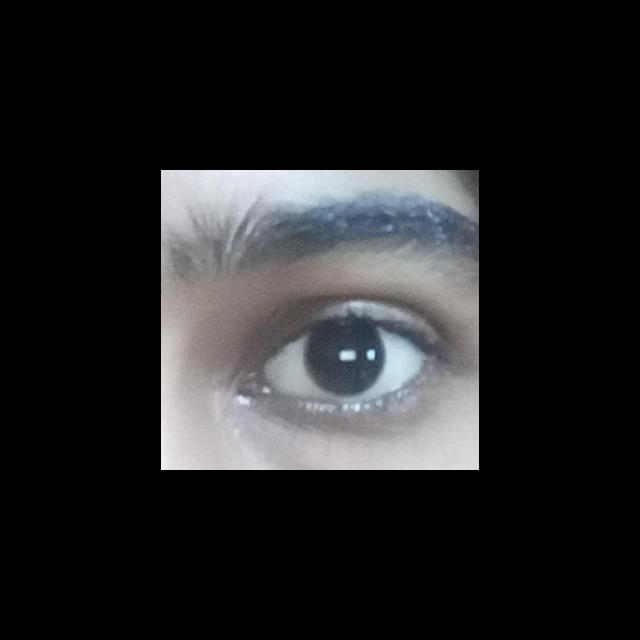eye: (264, 316, 429, 406)
iris: (307, 320, 387, 398)
